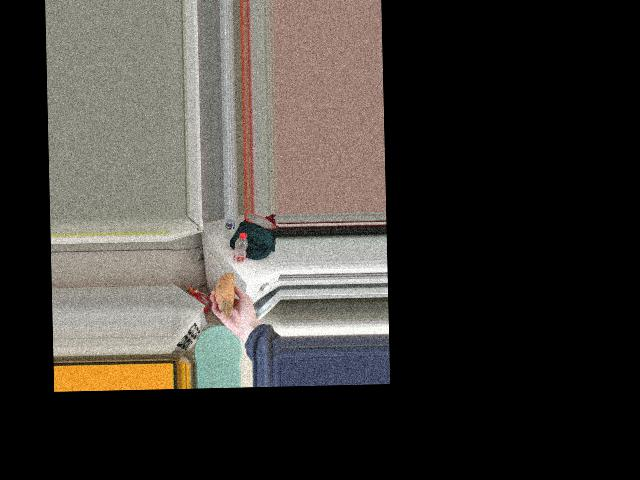sweet_potato: (216, 262, 235, 310)
